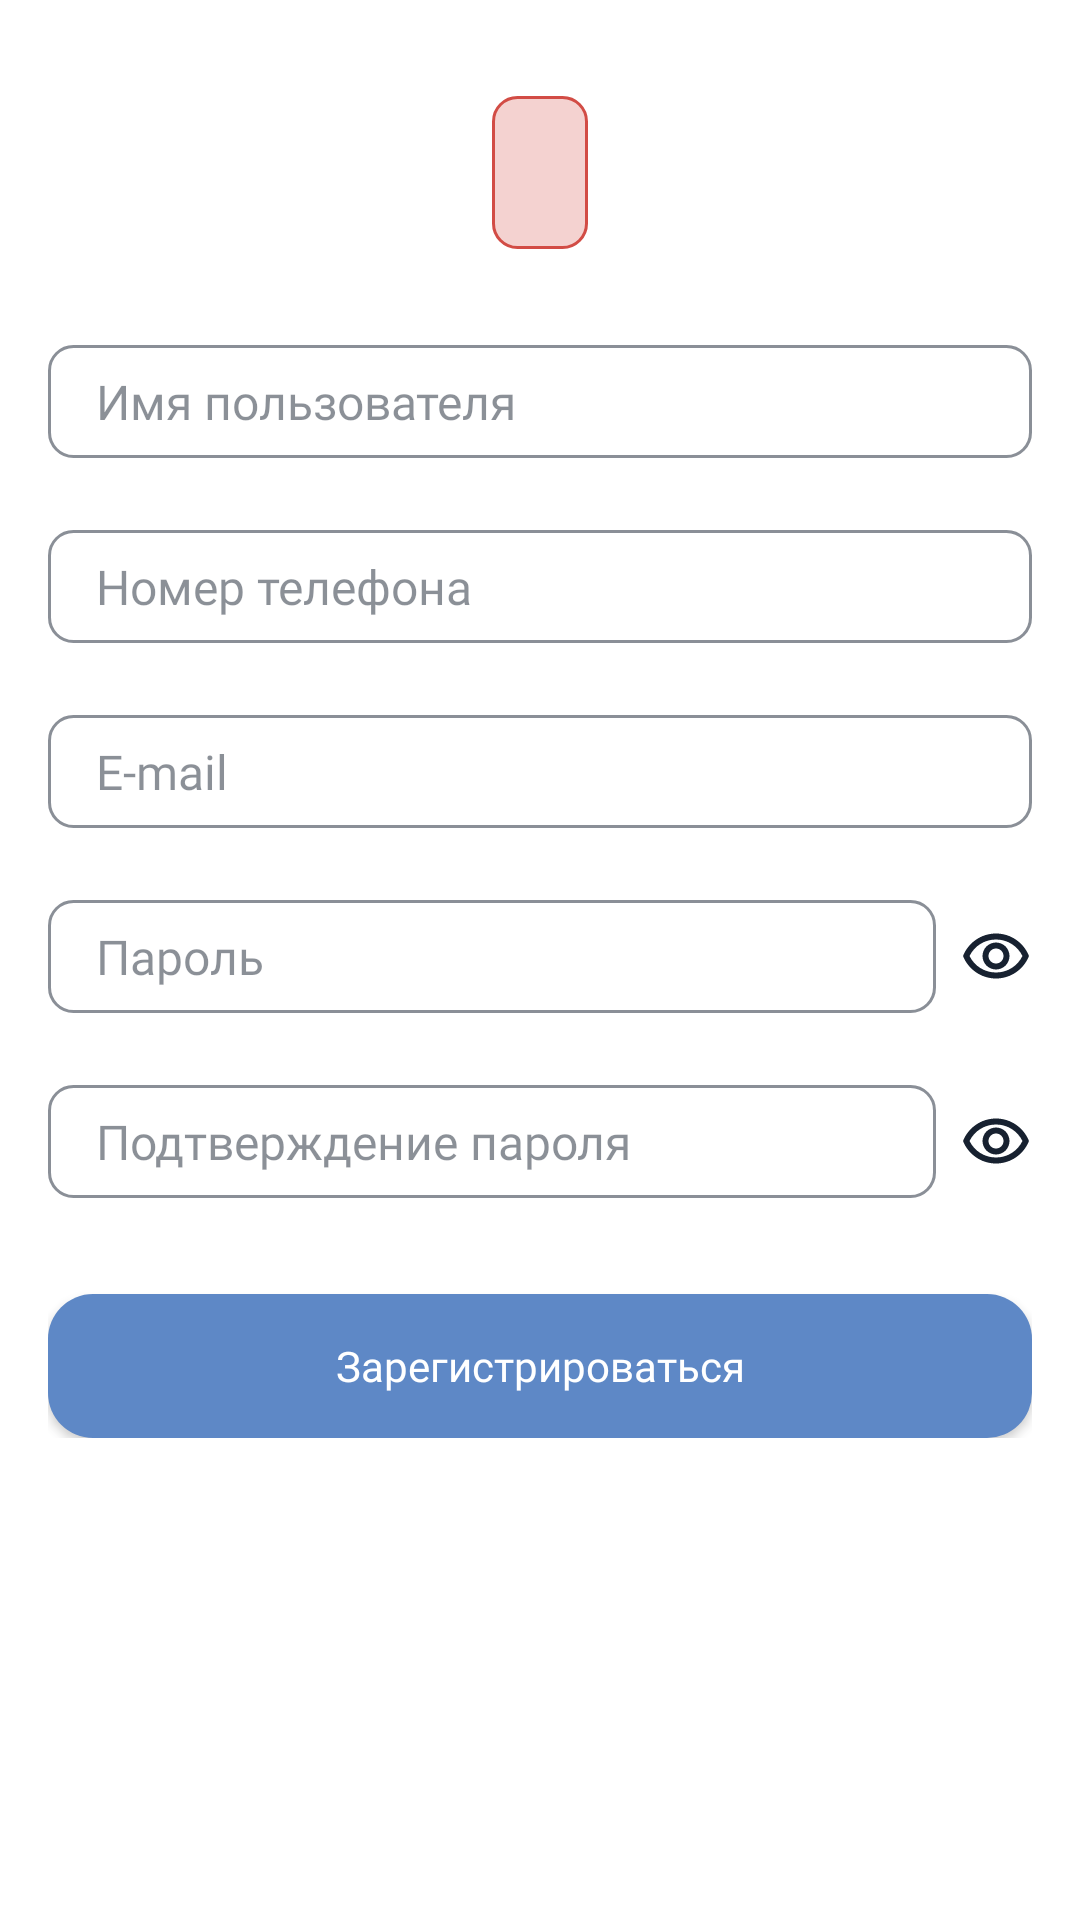

Icon bounding boxes for this 1080×1920 phone screenshot, format Rect(x1, y1, x2, y2):
hidden password: Rect(963, 933, 1029, 979), Rect(963, 1118, 1029, 1164)
